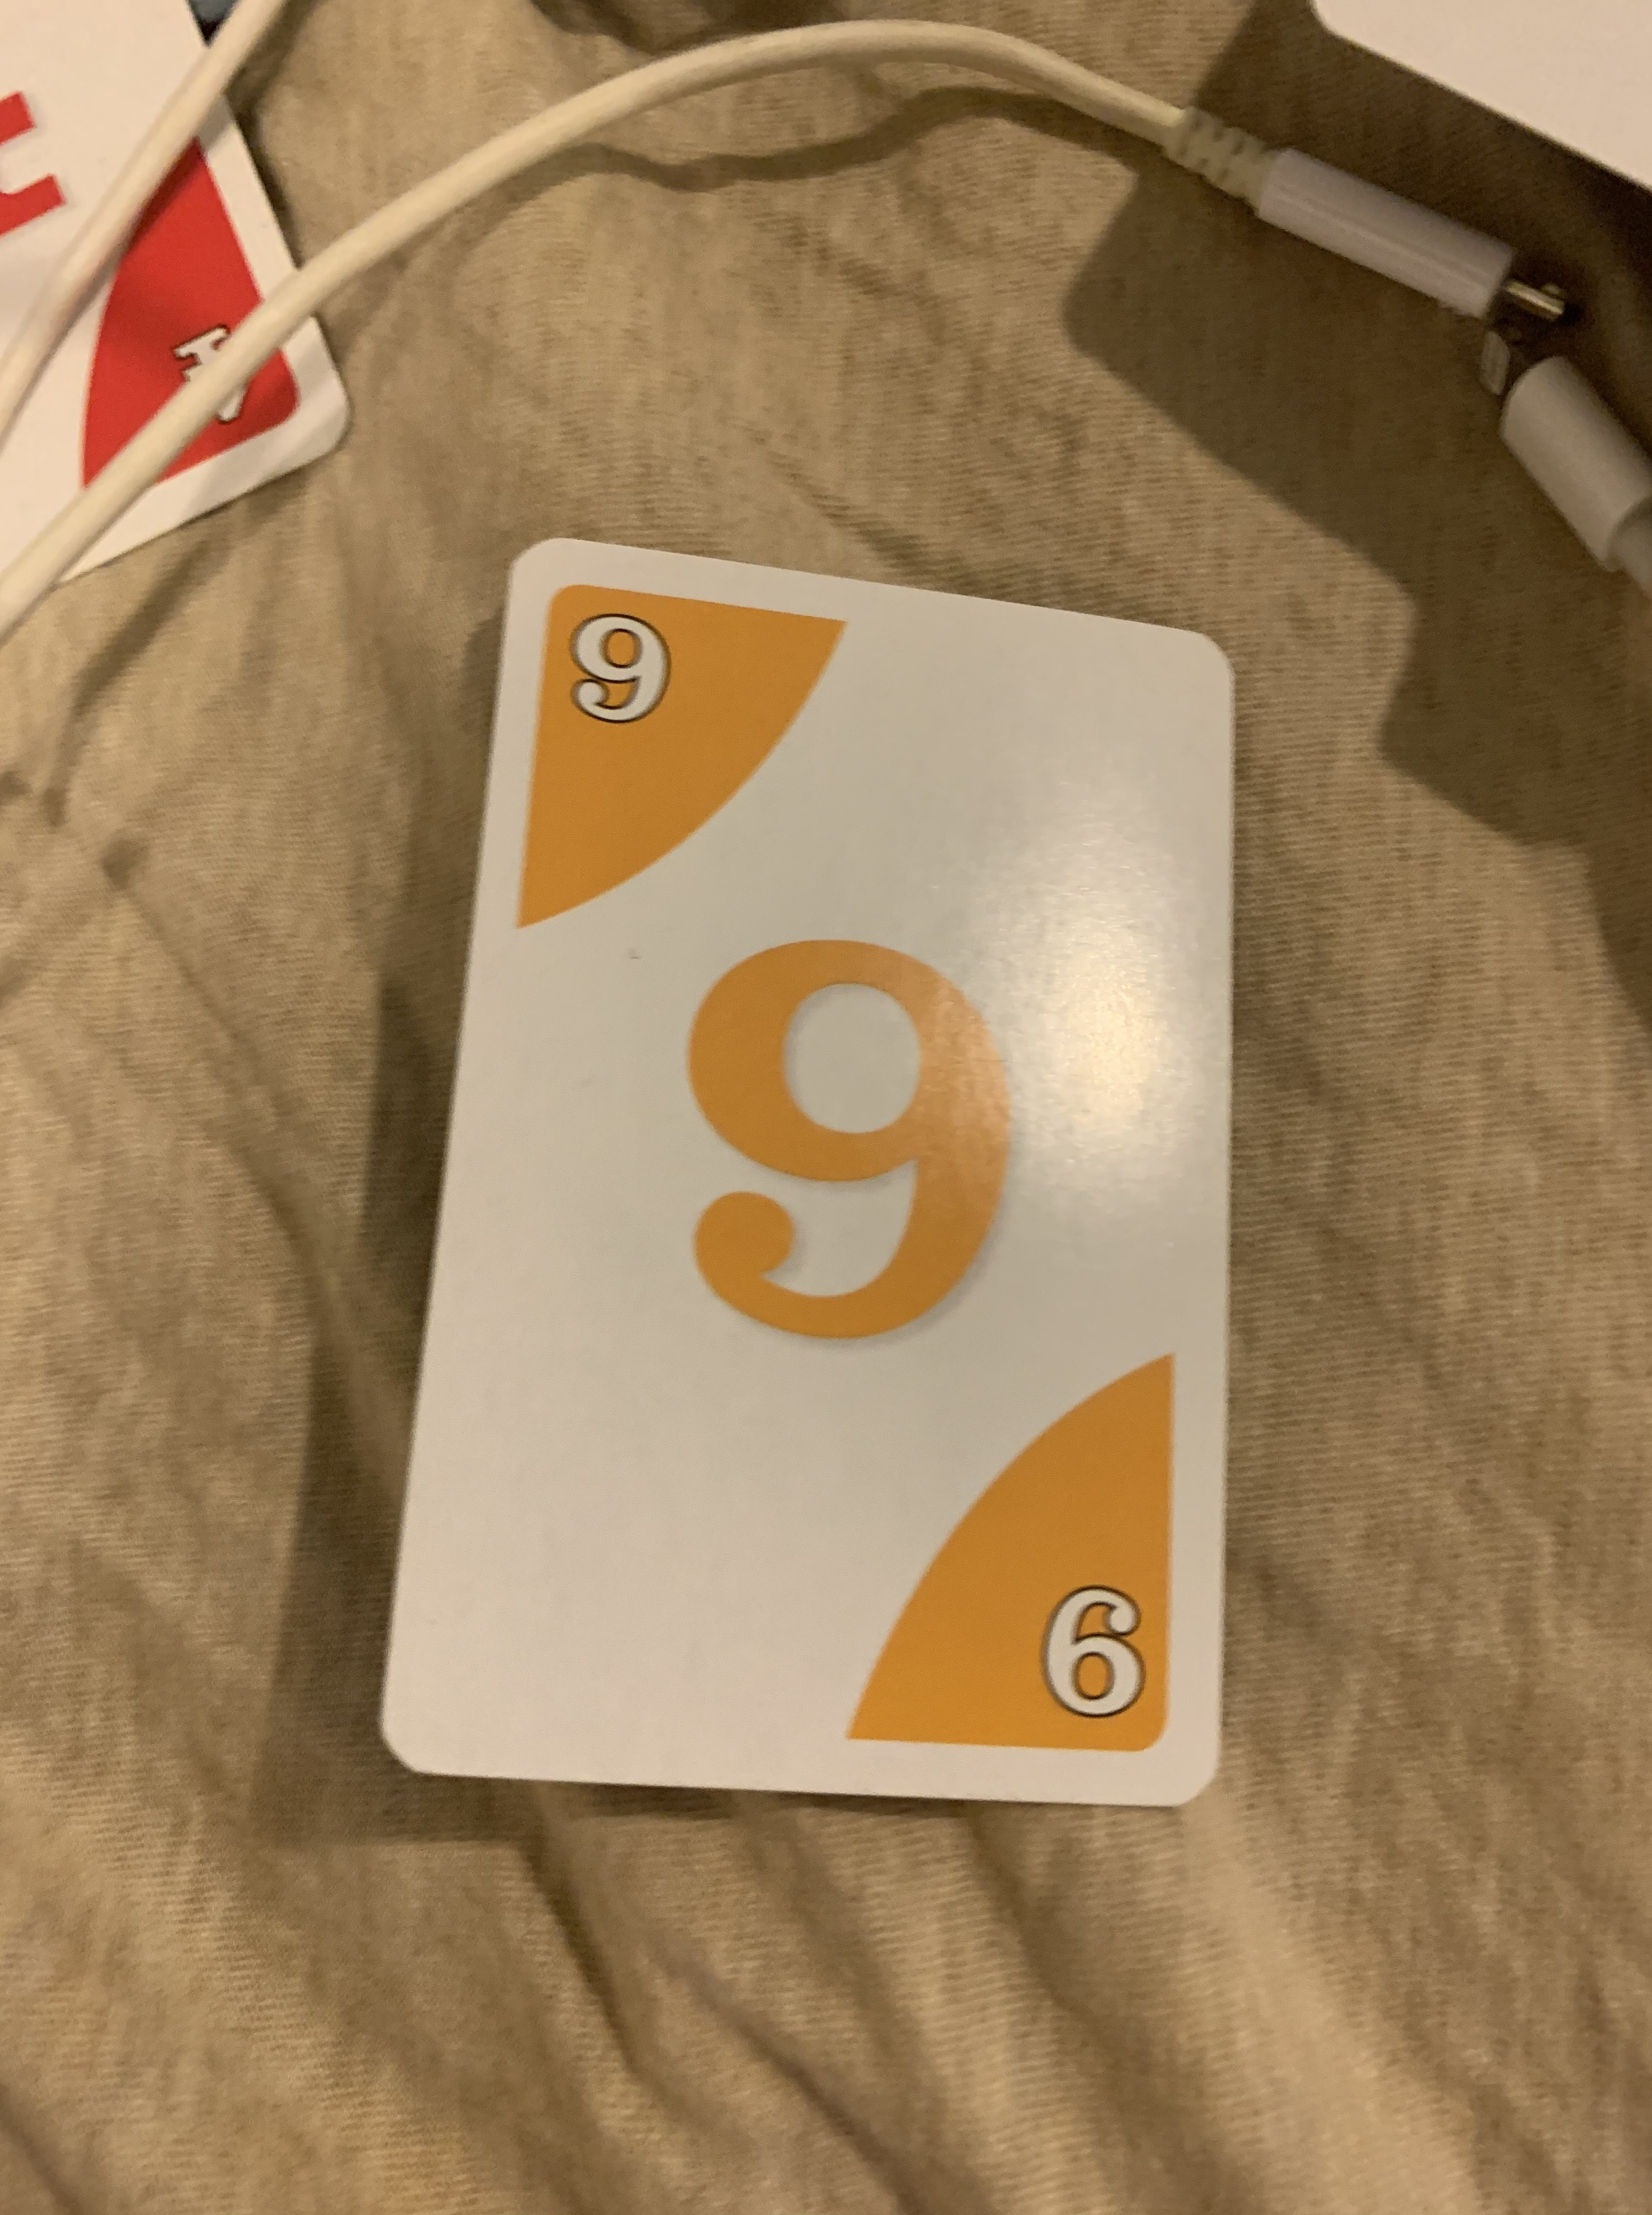nine: (361, 536, 1255, 1826)
